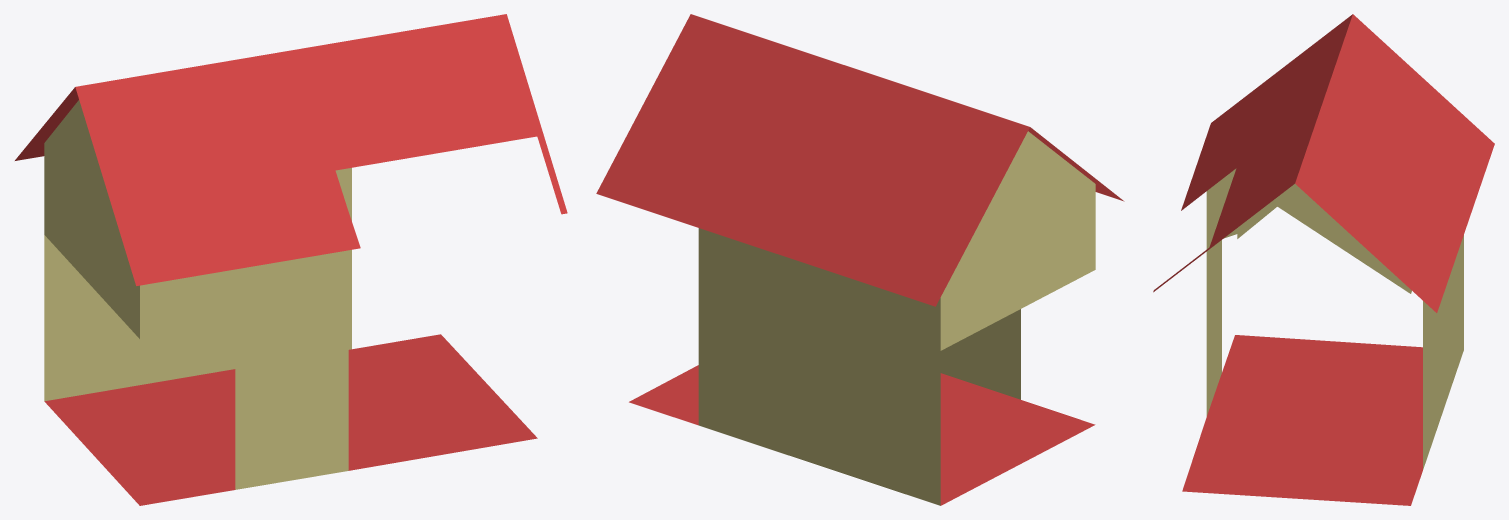
3 views of the same model, side by side, from view 1: azimuth 30°, elevation 25°; view 2: azimuth 150°, elevation 25°; view 3: azimuth 270°, elevation 25° (orthographic). The views are drawn at different scales.
Size of the model in its own units: 19.22 by 14.85 by 15.43.
